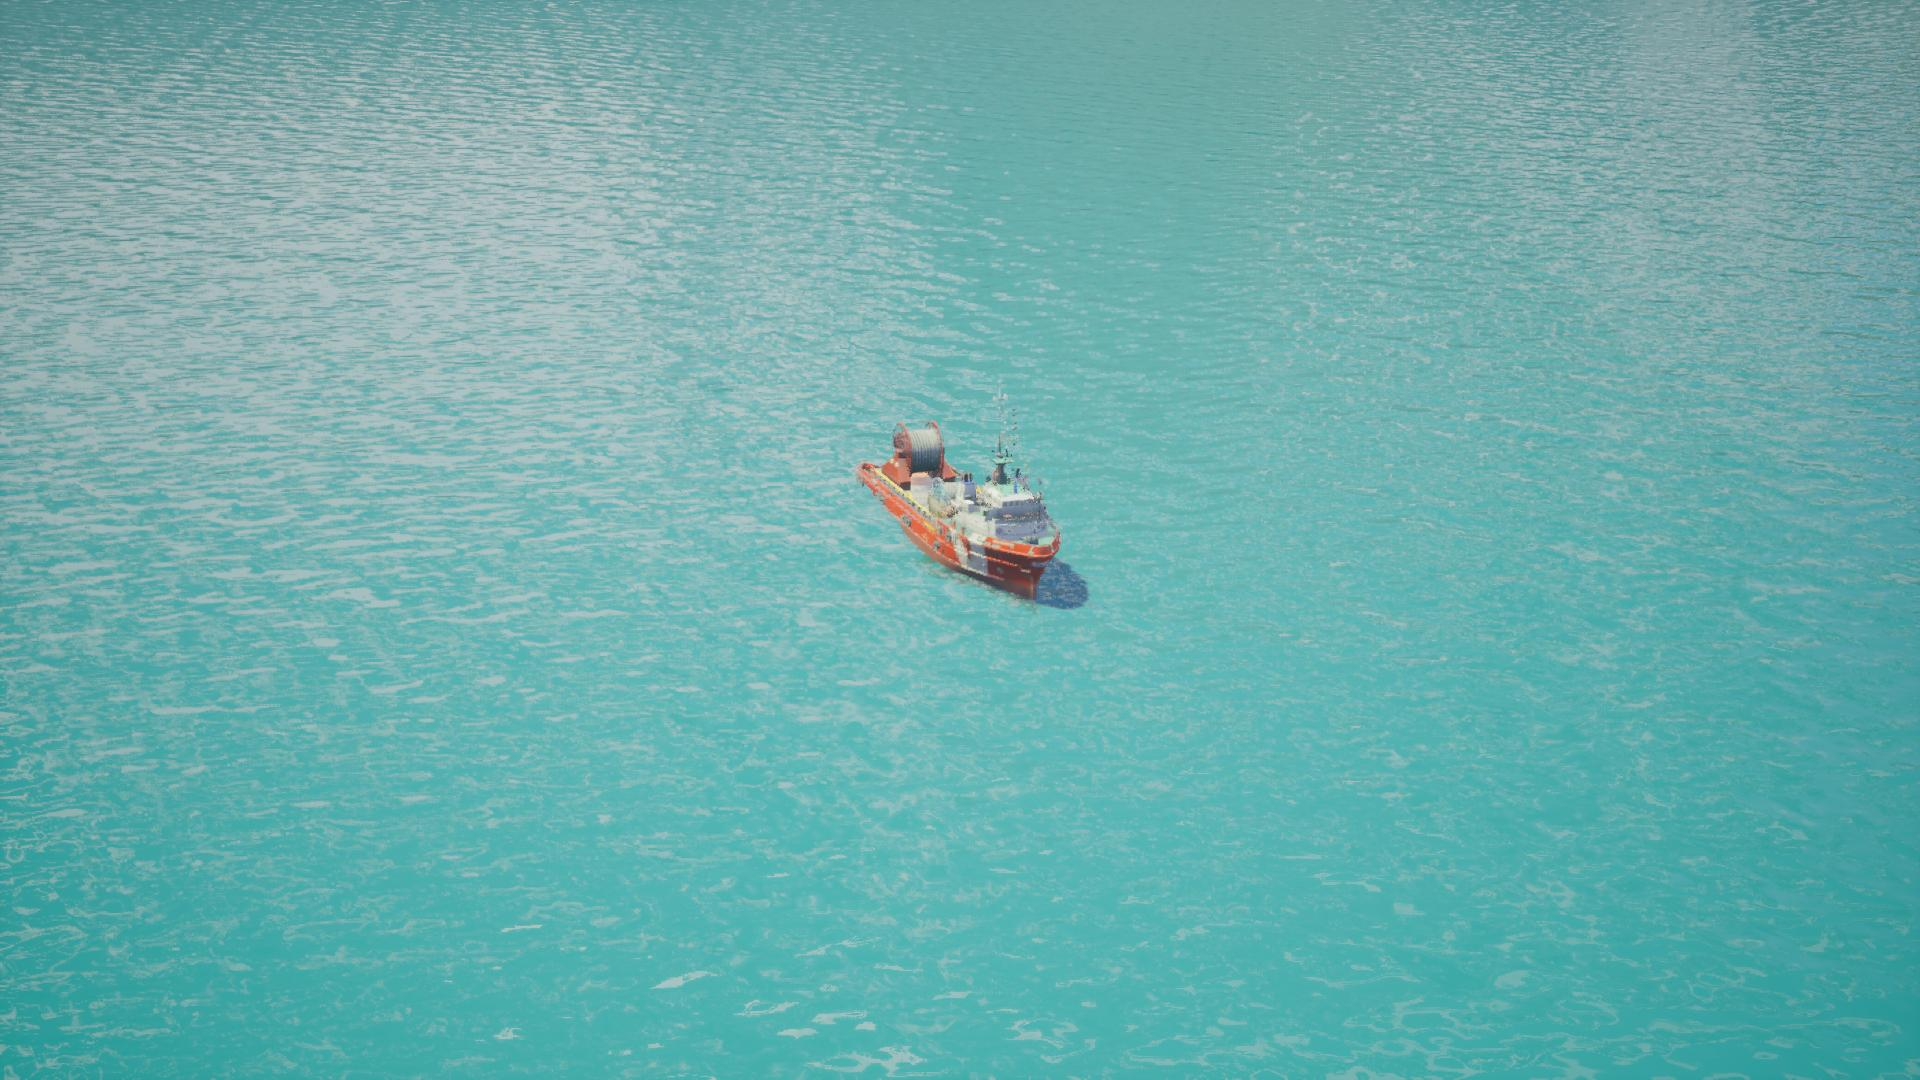Tug Boat: (835, 365, 1087, 632)
